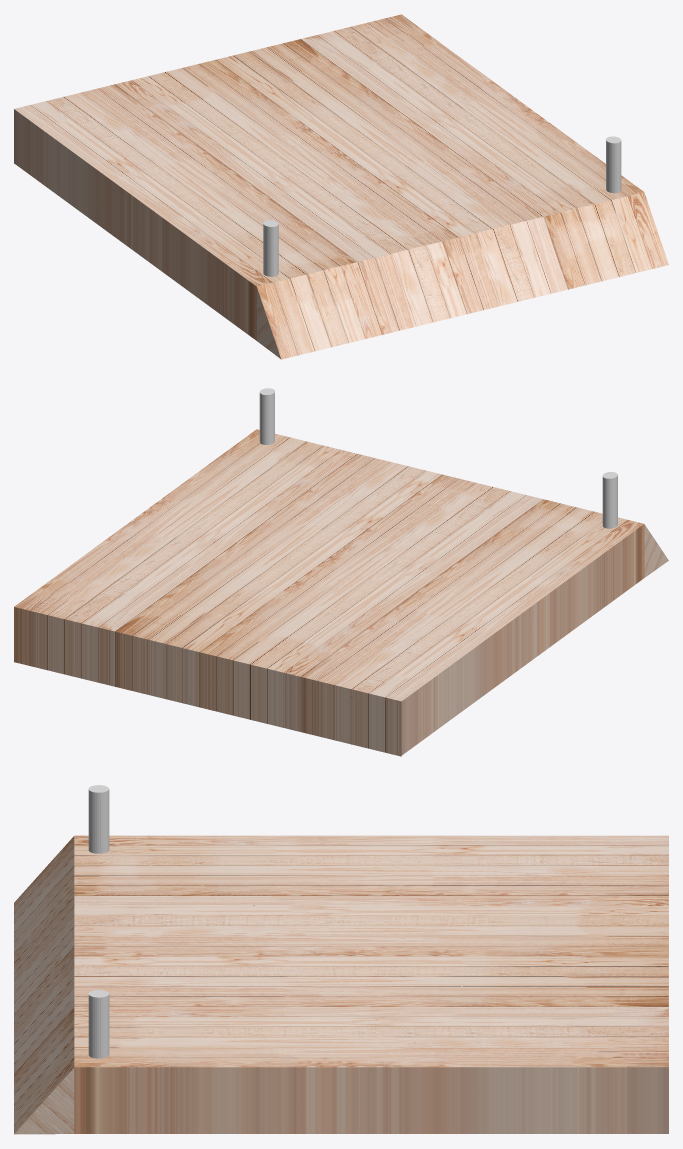
Rendered from tablado3-8.gltf.
3 renders of one model, top to bottom at view 1: azimuth 30°, elevation 25°; view 2: azimuth 150°, elevation 25°; view 3: azimuth 270°, elevation 25°, orthographic. The views are drawn at different scales.
Visible parts, largest first — view 1: Plane, Cylinder.000, Cylinder.002; view 2: Plane, Cylinder.000, Cylinder.002; view 3: Plane, Cylinder.002, Cylinder.000.
Part boxes in pixels (<box>): Plane: <box>14,14,668,359</box>; Cylinder.000: <box>606,136,621,193</box>; Cylinder.002: <box>263,220,278,276</box>; Plane: <box>14,429,668,756</box>; Cylinder.000: <box>259,388,274,444</box>; Cylinder.002: <box>602,472,617,528</box>; Plane: <box>14,835,668,1134</box>; Cylinder.002: <box>88,785,109,853</box>; Cylinder.000: <box>88,990,109,1058</box>.
Size of the model in its own units: 2.51 by 0.6501 by 3.
Materials: 3 (1 with a texture image).
